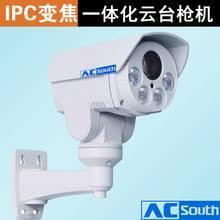tutu: (50, 33, 191, 140)
